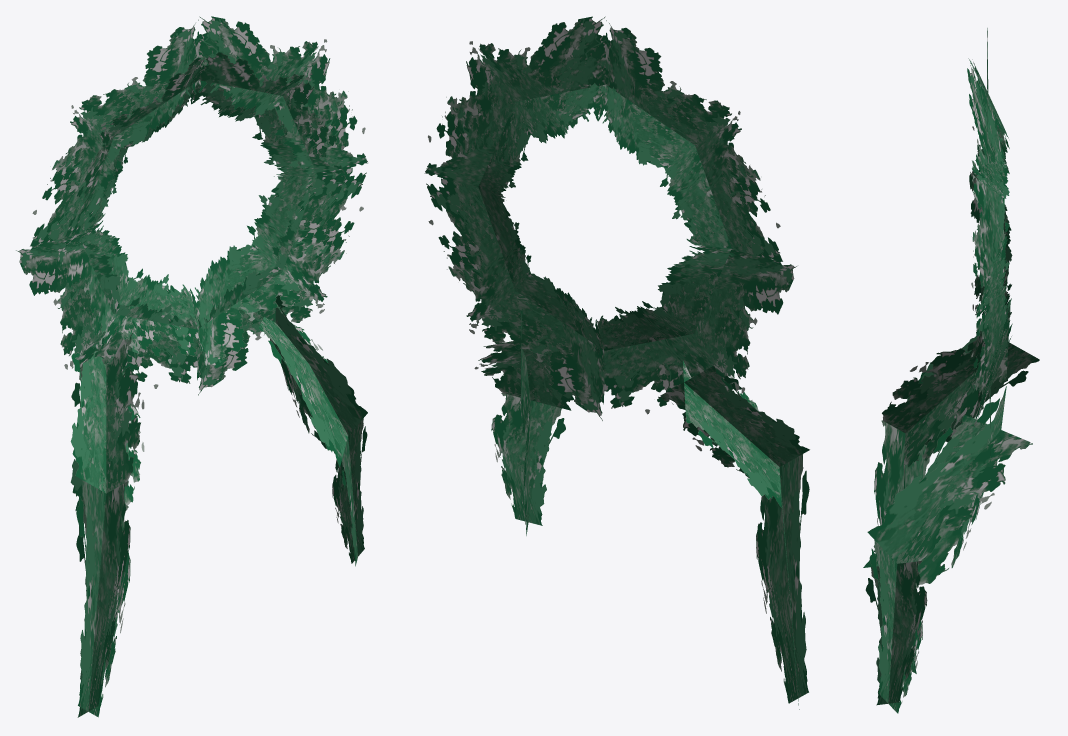
The model's file is Wreath01_Art.fbx.
3 views of the same model, side by side, from view 1: azimuth 30°, elevation 25°; view 2: azimuth 150°, elevation 25°; view 3: azimuth 270°, elevation 25° (orthographic). The views are drawn at different scales.
Visible parts, largest first — view 1: Wreath01_Art; view 2: Wreath01_Art; view 3: Wreath01_Art.
Part boxes in pixels (box(x1,y1,x2,y2)): Wreath01_Art: box(16, 16, 367, 717); Wreath01_Art: box(424, 16, 809, 709); Wreath01_Art: box(863, 28, 1039, 713).
Size of the model in its own units: 1.58 by 2.68 by 0.6651.
